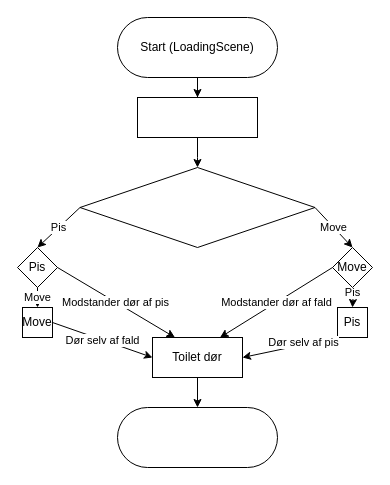
The diagram is 390 pixels wide and 485 high, and some of its shapes have lost their labels. The box of each missing label's shape, as (x1, y1, x2, y2) in pixels:
Pis på modstander eller move (SampleScene): (79, 166, 315, 248)
Slut (LoadingScene): (116, 406, 278, 468)
Start spillet (StartButton): (136, 96, 258, 138)
